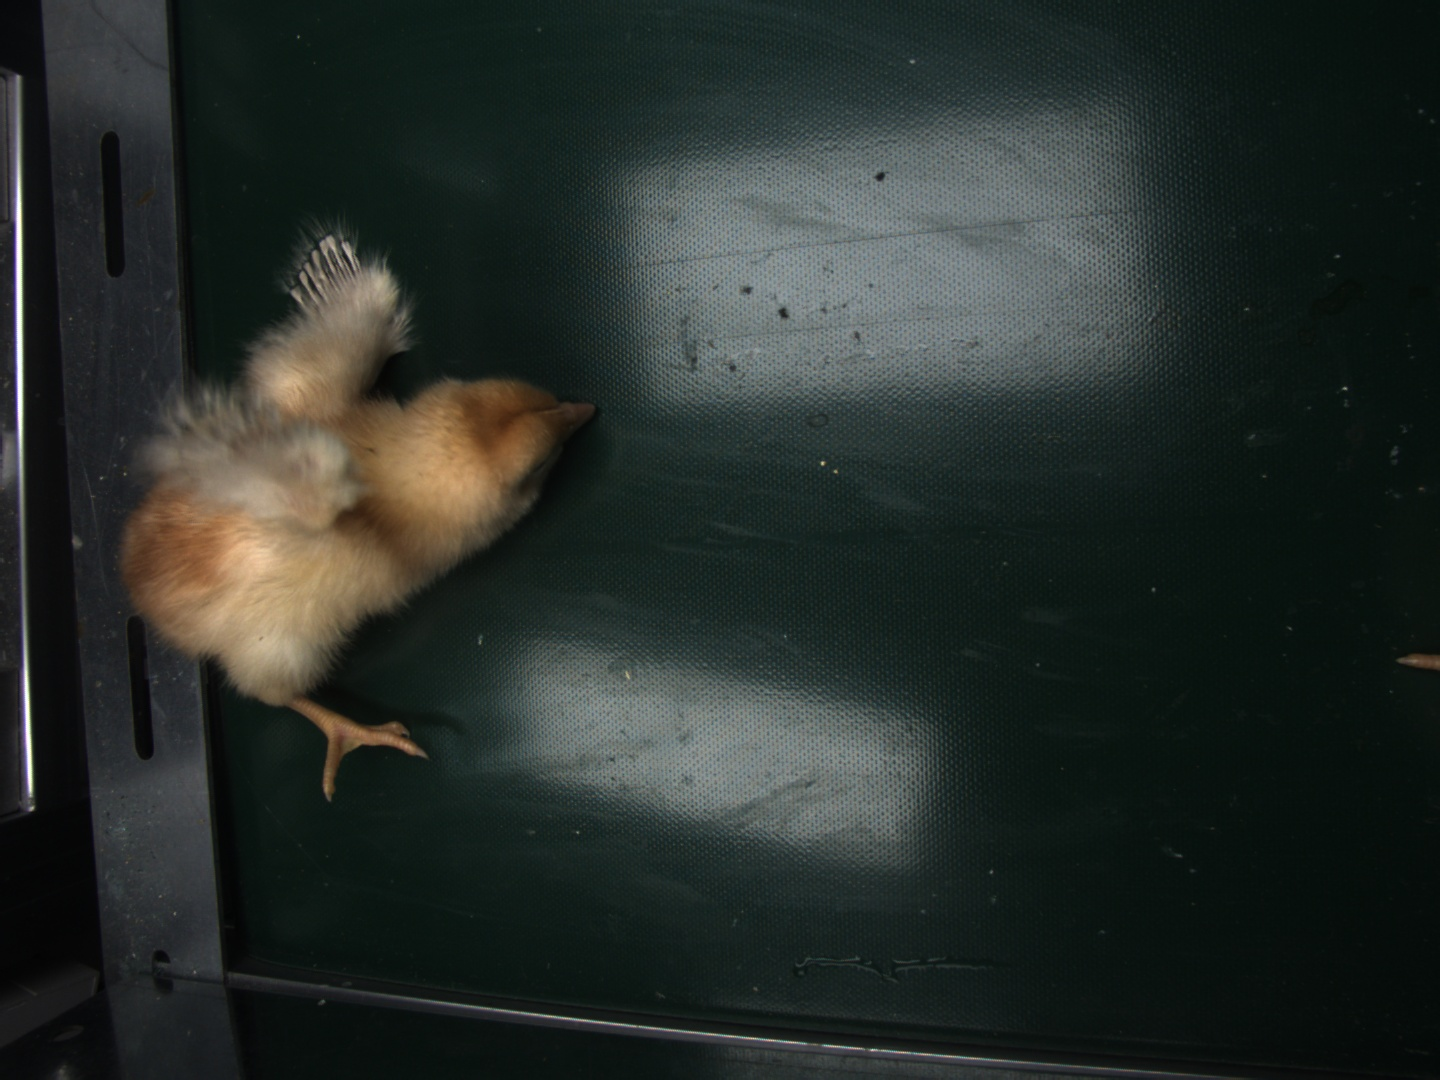female: (282, 227, 369, 315)
